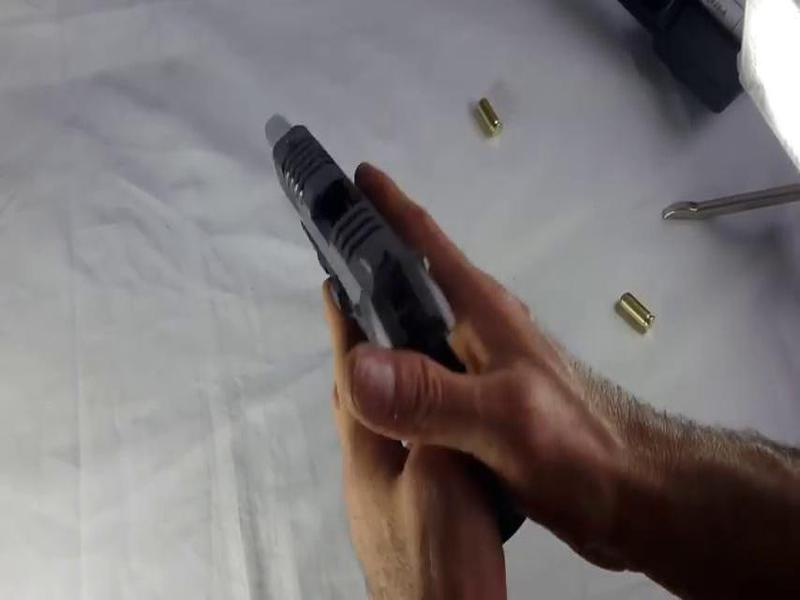Pistola: (232, 95, 530, 469)
